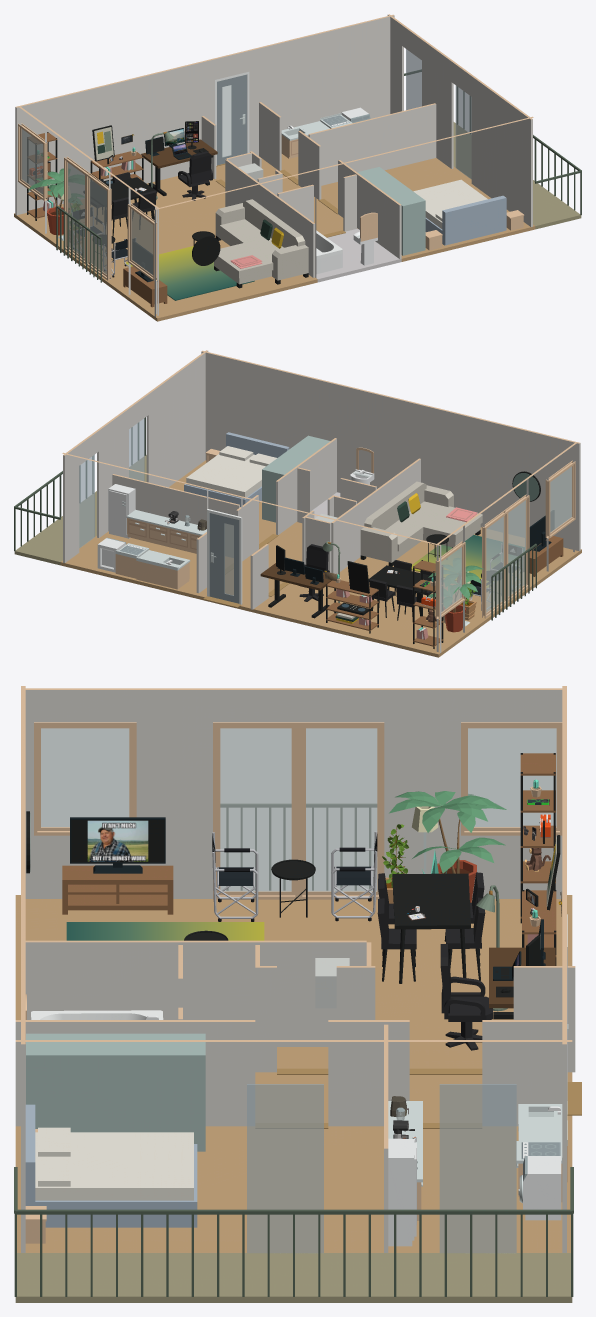
Rendered from nuremberg.glb.
3 renders of one model, top to bottom at view 1: azimuth 30°, elevation 25°; view 2: azimuth 150°, elevation 25°; view 3: azimuth 270°, elevation 25°, orthographic. The views are drawn at different scales.
Parts seen in each view (by area): view 1: object 11, object 2, object 9, object 15, object 4; view 2: object 11, object 2, object 9, object 4, object 15; view 3: object 11, object 2, object 9, object 4, object 15, object 14.
Part boxes in pixels (x1=…): object 11: x1=14, y1=69, x2=581, y2=321; object 2: x1=15, y1=14, x2=533, y2=316; object 9: x1=21, y1=85, x2=231, y2=275; object 15: x1=124, y1=246, x2=254, y2=300; object 4: x1=406, y1=49, x2=471, y2=179; object 11: x1=14, y1=417, x2=581, y2=657; object 2: x1=62, y1=350, x2=580, y2=652; object 9: x1=175, y1=466, x2=571, y2=612; object 4: x1=79, y1=418, x2=144, y2=548; object 15: x1=411, y1=535, x2=524, y2=587; object 11: x1=14, y1=722, x2=581, y2=1302; object 2: x1=15, y1=686, x2=575, y2=1252; object 9: x1=41, y1=728, x2=556, y2=1138; object 4: x1=247, y1=1084, x2=516, y2=1253; object 15: x1=66, y1=922, x2=264, y2=940; object 14: x1=87, y1=820, x2=148, y2=861.
Size of the model in its own units: 11.06 by 2.68 by 6.41.
17 materials, 17 textured.
